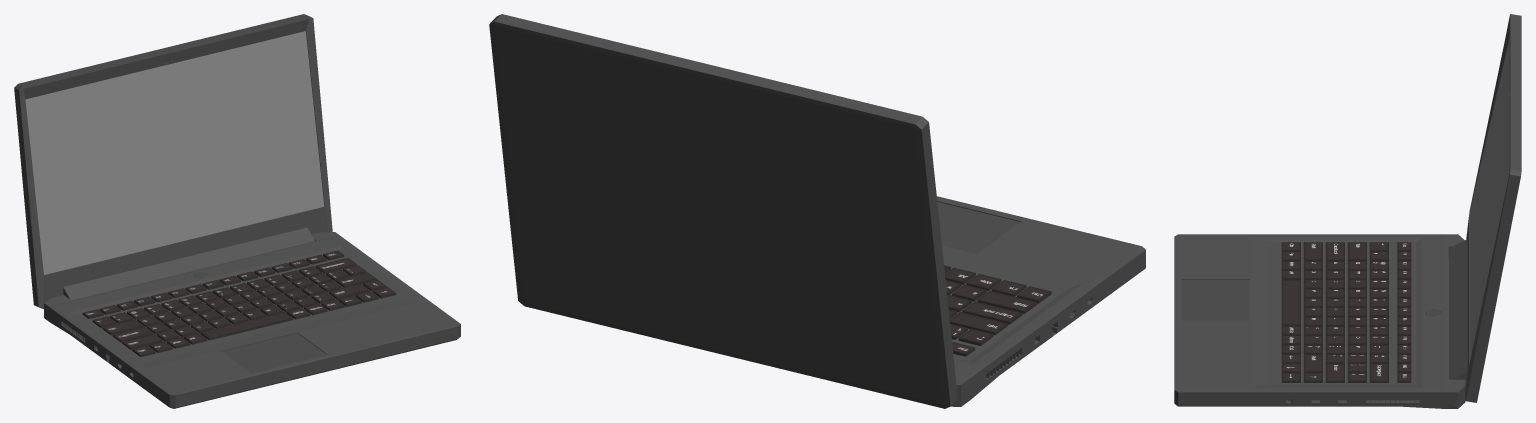
The model's file is laptop3.glb.
3 renders of one model, left to right at view 1: azimuth 30°, elevation 25°; view 2: azimuth 150°, elevation 25°; view 3: azimuth 270°, elevation 25°, orthographic. The views are drawn at different scales.
Visible parts, largest first — view 1: Laptop_Screen, Laptop_BasePanel, Laptop_ScreenPanel, Laptop_Hinge, Key_Backspace; view 2: Laptop_ScreenPanel, Laptop_BasePanel, Key_LShift, Key_Tab, Key_CapsLock; view 3: Laptop_BasePanel, Laptop_ScreenPanel, Laptop_Screen, Laptop_Hinge, Key_Backspace, Key_Enter, Key_Backspace.001, Key_LShift, Key_RShift, Key_CapsLock, Key_Tab.
Boxes of the visible parts, x1,y1,x2,y2 form: Laptop_Screen: [25, 31, 324, 274]; Laptop_BasePanel: [44, 232, 460, 408]; Laptop_ScreenPanel: [14, 14, 332, 308]; Laptop_Hinge: [63, 227, 314, 300]; Key_Backspace: [200, 312, 293, 340]; Laptop_ScreenPanel: [489, 14, 957, 408]; Laptop_BasePanel: [936, 196, 1145, 406]; Key_LShift: [977, 290, 1037, 313]; Key_Tab: [949, 312, 1007, 335]; Key_CapsLock: [962, 301, 1022, 324]; Laptop_BasePanel: [1174, 234, 1465, 408]; Laptop_ScreenPanel: [1465, 14, 1521, 402]; Laptop_Screen: [1470, 41, 1509, 358]; Laptop_Hinge: [1449, 239, 1467, 388]; Key_Backspace: [1281, 279, 1300, 326]; Key_Enter: [1325, 363, 1344, 382]; Key_Backspace.001: [1369, 363, 1388, 382]; Key_LShift: [1303, 242, 1322, 260]; Key_RShift: [1303, 354, 1322, 372]; Key_CapsLock: [1325, 242, 1344, 260]; Key_Tab: [1347, 242, 1366, 260].
Size of the model in its own units: 0.3031 by 0.2118 by 0.2786.
5 materials, 1 textured.
